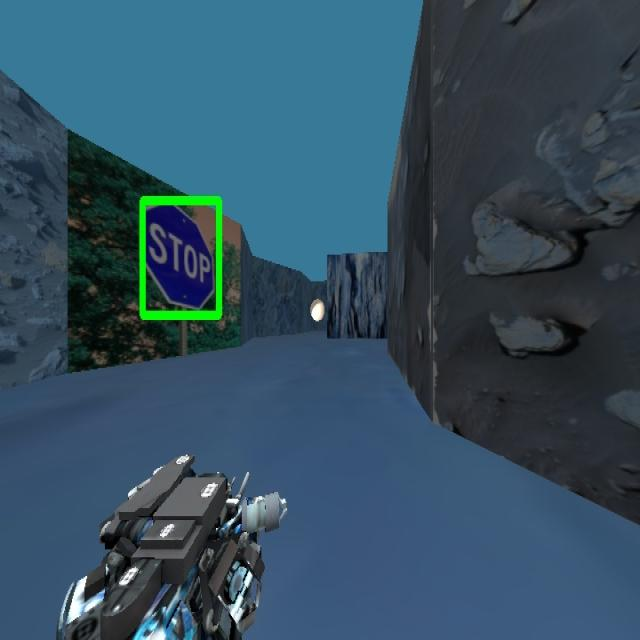Circle: (310, 298, 324, 322)
Stop_Sign: (138, 194, 223, 322)
